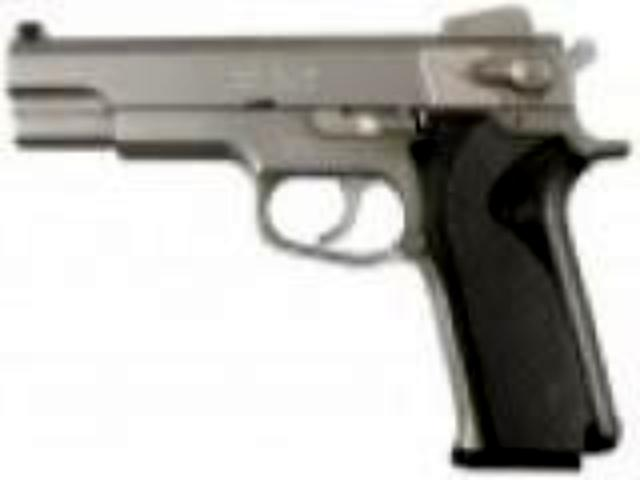pistol: (16, 8, 620, 472)
